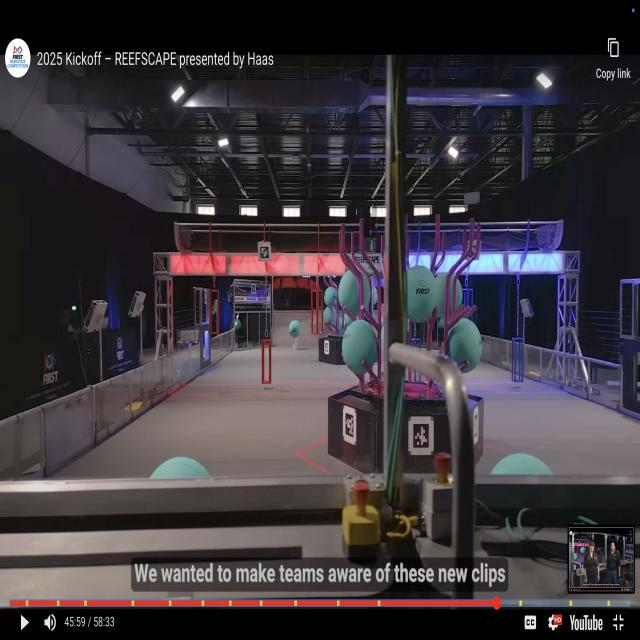algae: (342, 316, 382, 378), (448, 320, 487, 372), (404, 259, 434, 323), (337, 264, 373, 312), (435, 272, 466, 317), (322, 304, 337, 330), (324, 285, 339, 308), (288, 318, 303, 339)
coral: (291, 337, 300, 351)
